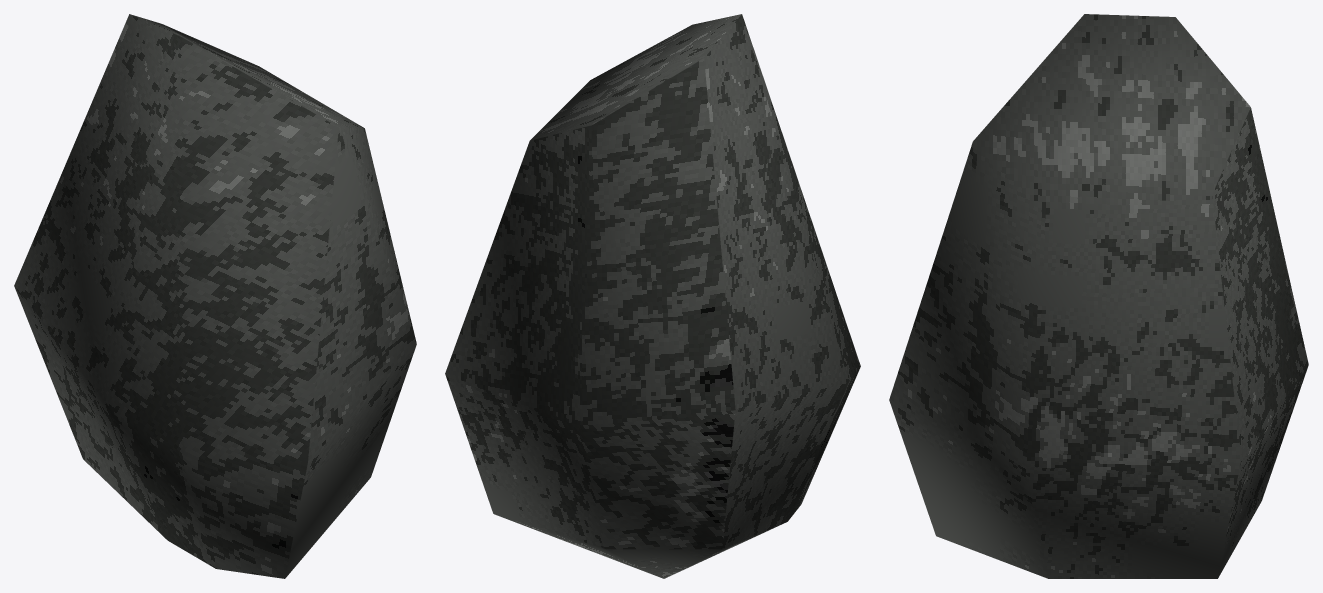
File: rock3.glb
3 renders of one model, left to right at view 1: azimuth 30°, elevation 25°; view 2: azimuth 150°, elevation 25°; view 3: azimuth 270°, elevation 25°, orthographic. The views are drawn at different scales.
Visible parts, largest first — view 1: rock3; view 2: rock3; view 3: rock3.
Boxes of the visible parts, x1,y1,x2,y2 form: rock3: [14, 14, 416, 578]; rock3: [445, 14, 860, 578]; rock3: [889, 14, 1308, 578].
Bounding box in the file's own units: 2.15 × 3.69 × 2.62.
Materials: 1 (1 with a texture image).
